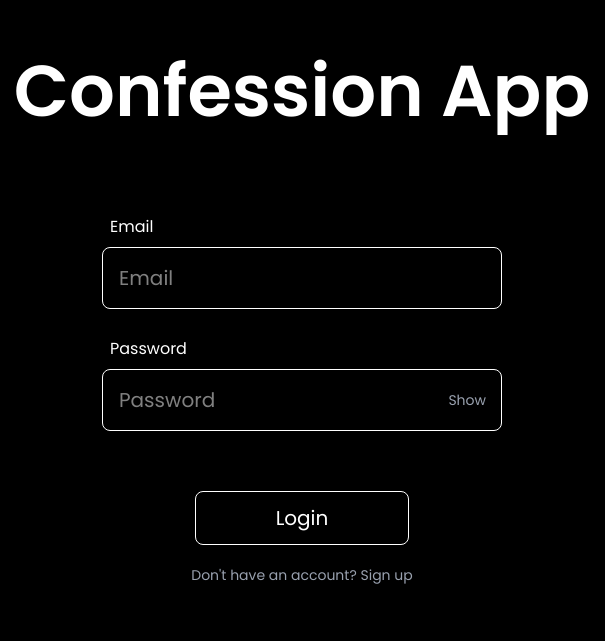
it: Form › switches to Sign Up mode when toggle is clicked
Click the text "Don't have an account? Sign up" at (302, 575), box [191, 565, 413, 585]
(page scrolled)
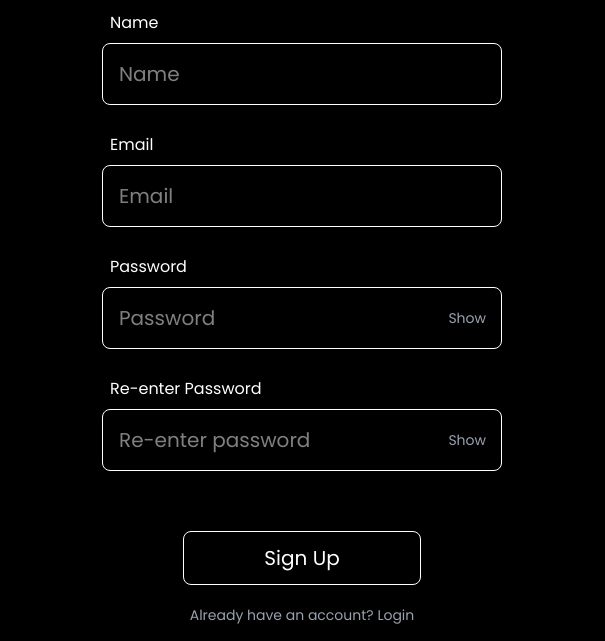
expect the button "Sign Up" is shown: met, box [183, 531, 421, 585]
